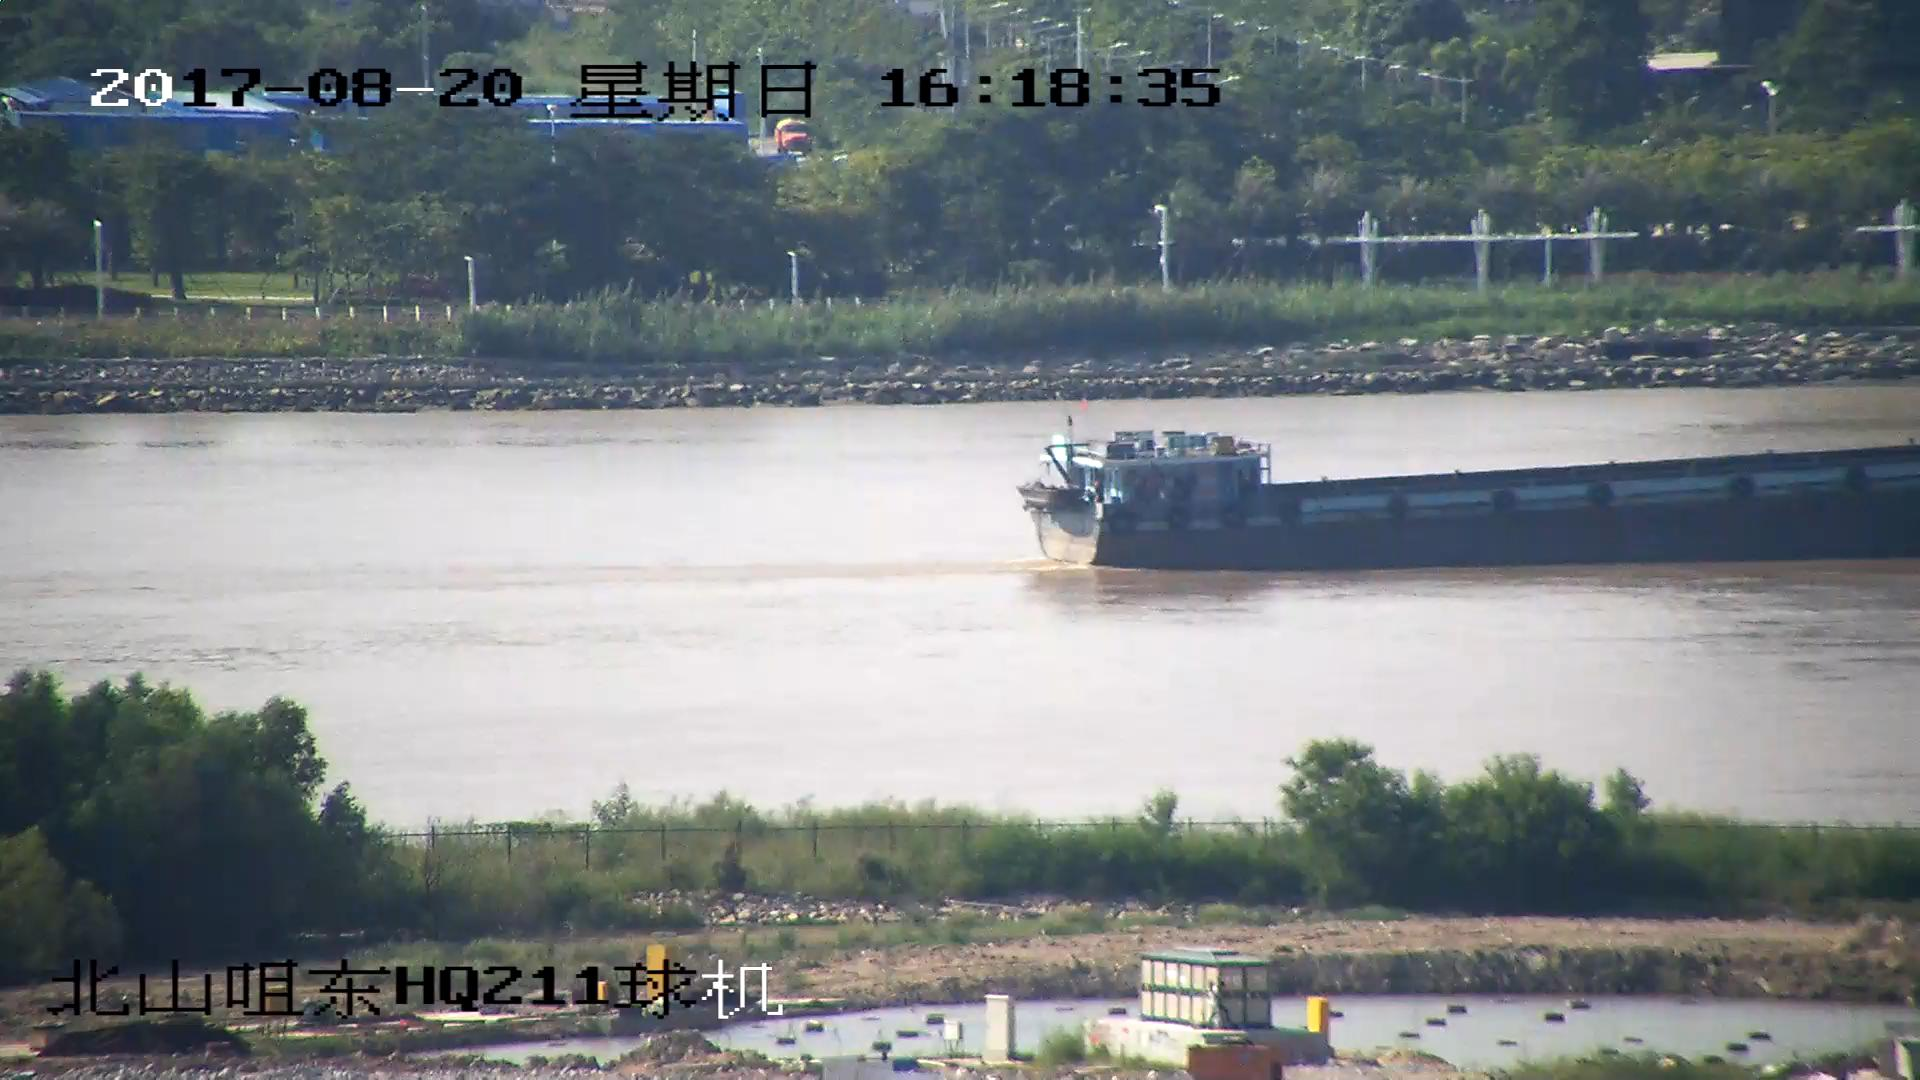general cargo ship: (1027, 426, 1920, 564)
